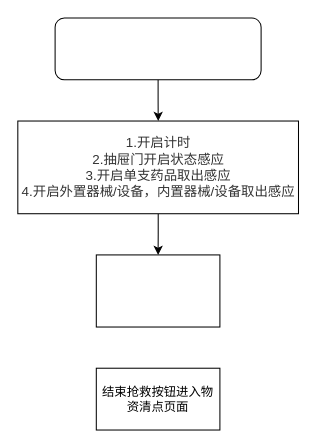
Image size: 317x448. Some labels were removed from this diagram. The centre of each missing label's shape, as x and y in pixels:
任何界面扭开紧急开锁按钮（ 除了补给、盘点等正常流程开启 ）: point 157,48
各类设备、物品可显示状态: point 157,290
